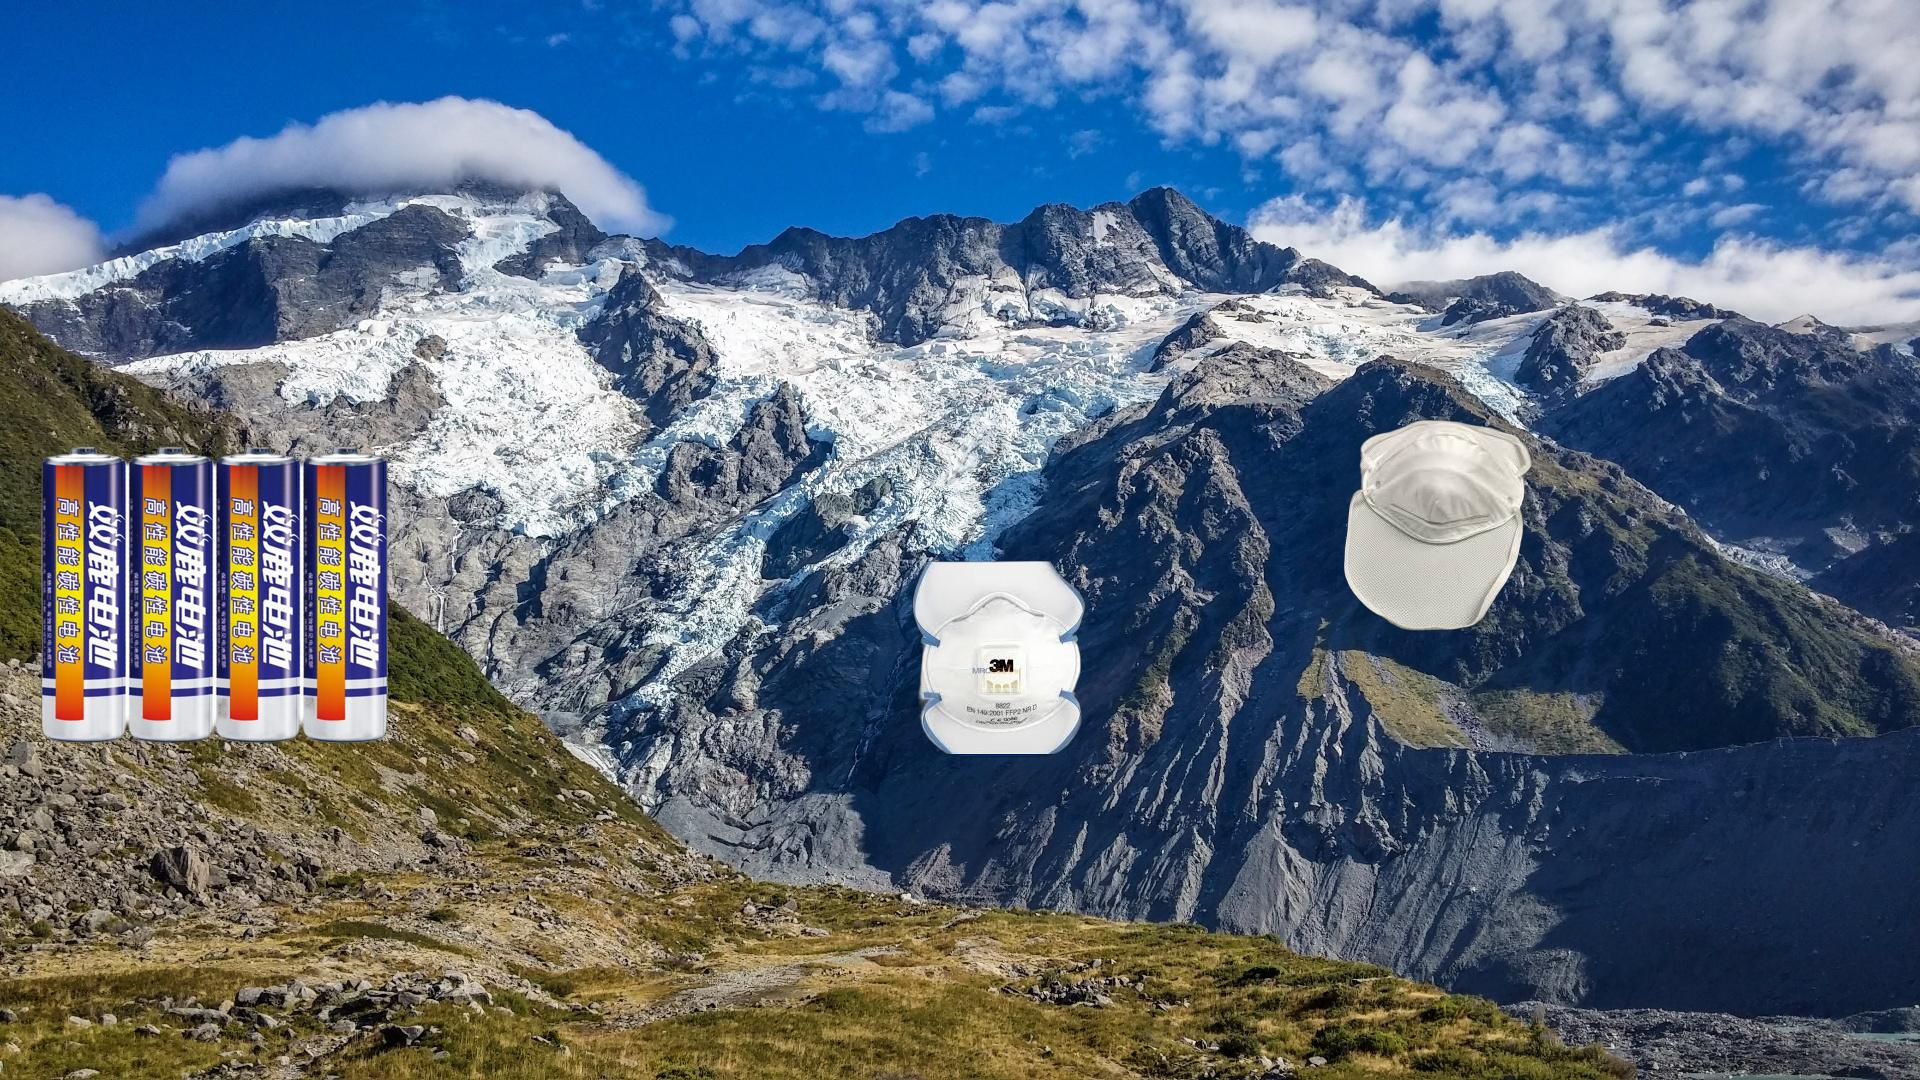battery: (38, 444, 392, 746)
trash: (1341, 417, 1535, 634), (910, 558, 1088, 760)
